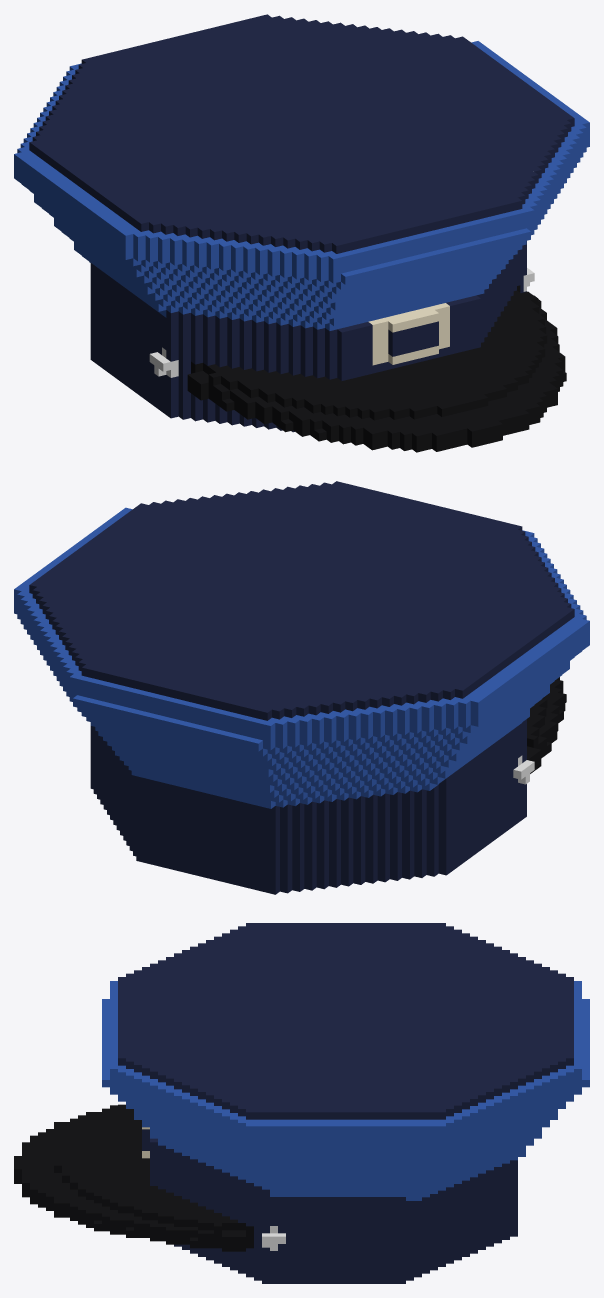
Rendered from mail_carrier_cap.glb.
3 views of the same model, one above another, from view 1: azimuth 30°, elevation 25°; view 2: azimuth 150°, elevation 25°; view 3: azimuth 270°, elevation 25° (orthographic). The views are drawn at different scales.
Parts seen in each view (by area): view 1: mail_carrier_cap:compound; view 2: mail_carrier_cap:compound; view 3: mail_carrier_cap:compound.
Part boxes in pixels (<box>): mail_carrier_cap:compound: <box>14,14,589,452</box>; mail_carrier_cap:compound: <box>14,481,589,894</box>; mail_carrier_cap:compound: <box>14,923,589,1283</box>.
Size of the model in its own units: 0.24 by 0.104 by 0.288.
